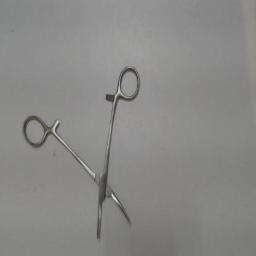Crile Artery Forceps: (20, 62, 144, 242)
